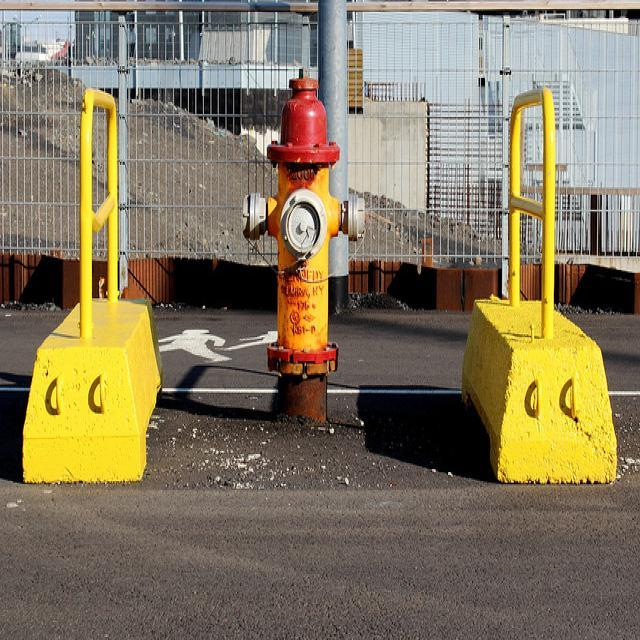fire_hydrant: (242, 69, 367, 430)
